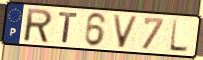6: (84, 11, 107, 49)
7: (142, 16, 166, 52)
L: (168, 18, 190, 54)
R: (24, 8, 54, 45)
T: (58, 11, 80, 45)
V: (111, 14, 140, 50)
